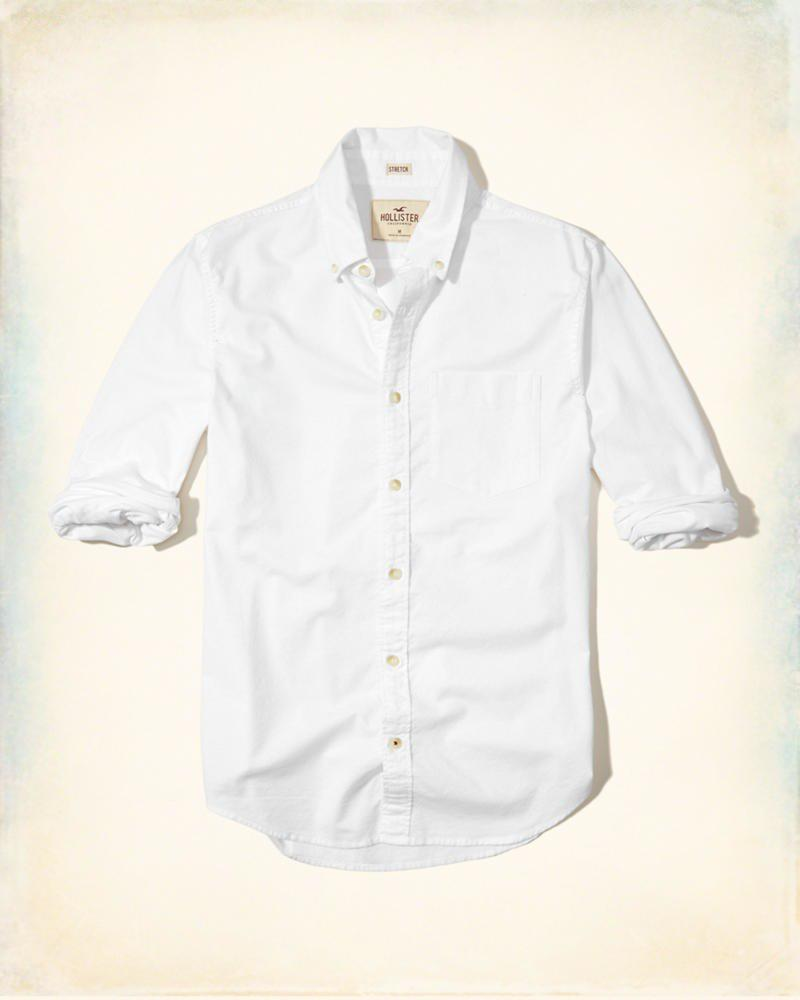teeshirt: (53, 125, 759, 854)
